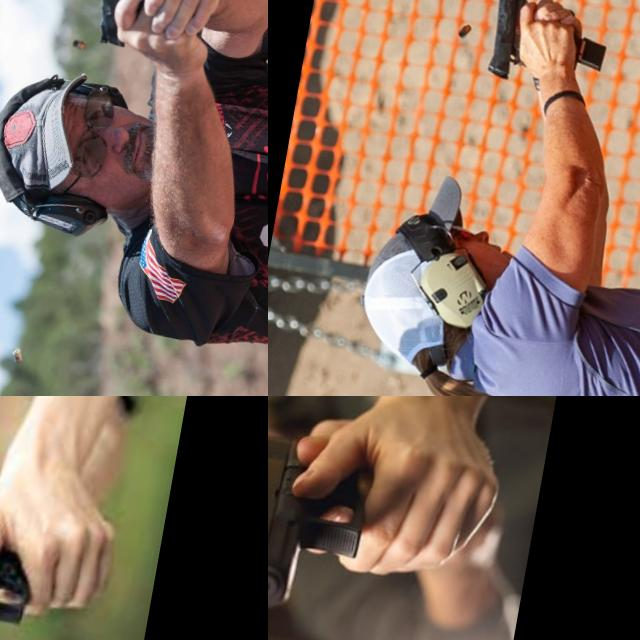handgun: (268, 415, 380, 629), (0, 484, 80, 640), (477, 0, 556, 86), (67, 0, 161, 71)
